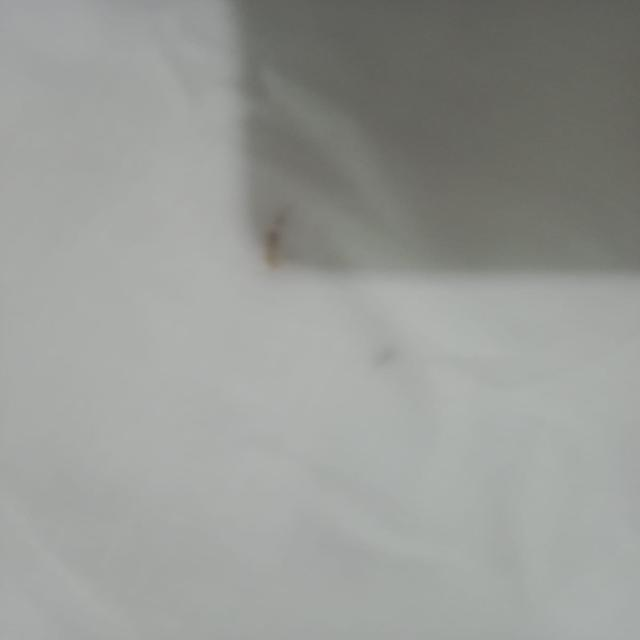stain: (250, 188, 308, 283), (359, 331, 412, 381)
